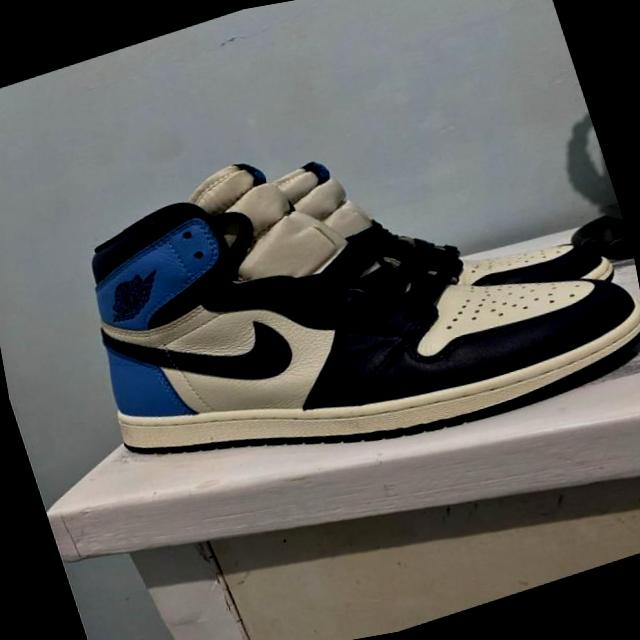nike_original_jordan: (39, 52, 640, 534), (230, 70, 634, 389)
